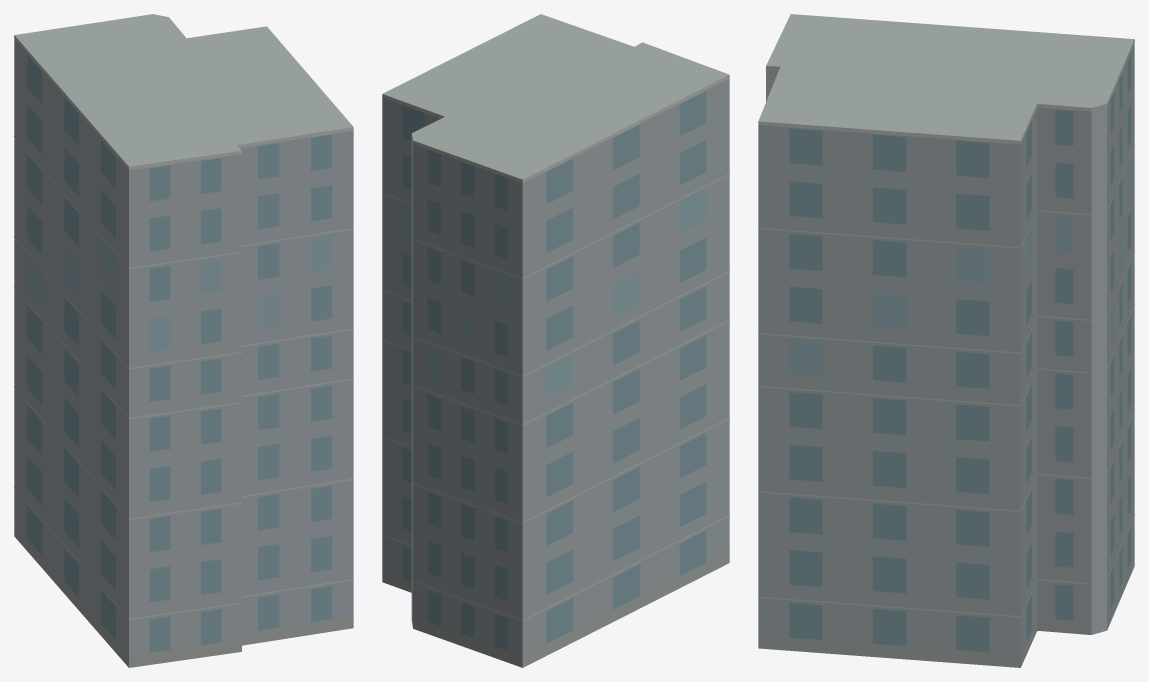
The model's file is survey-upis-32559892.glb.
The picture shows the model from 3 angles, left to right: view 1: azimuth 30°, elevation 25°; view 2: azimuth 150°, elevation 25°; view 3: azimuth 270°, elevation 25°; orthographic projection. The views are drawn at different scales.
Visible parts, largest first — view 1: survey-upis-32559892.tmp; view 2: survey-upis-32559892.tmp; view 3: survey-upis-32559892.tmp.
Part boxes in pixels (x1,y1,x2,y2): survey-upis-32559892.tmp: (14, 14, 353, 667); survey-upis-32559892.tmp: (382, 14, 729, 667); survey-upis-32559892.tmp: (758, 14, 1134, 667).
Size of the model in its own units: 17.66 by 34.15 by 22.12.
